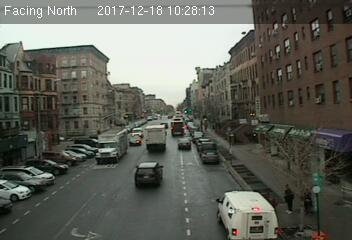car: (134, 162, 166, 187), (199, 149, 221, 164), (178, 137, 191, 148)
truck: (218, 188, 276, 240), (95, 129, 127, 161), (145, 126, 166, 149)
ups: (171, 121, 185, 138)
